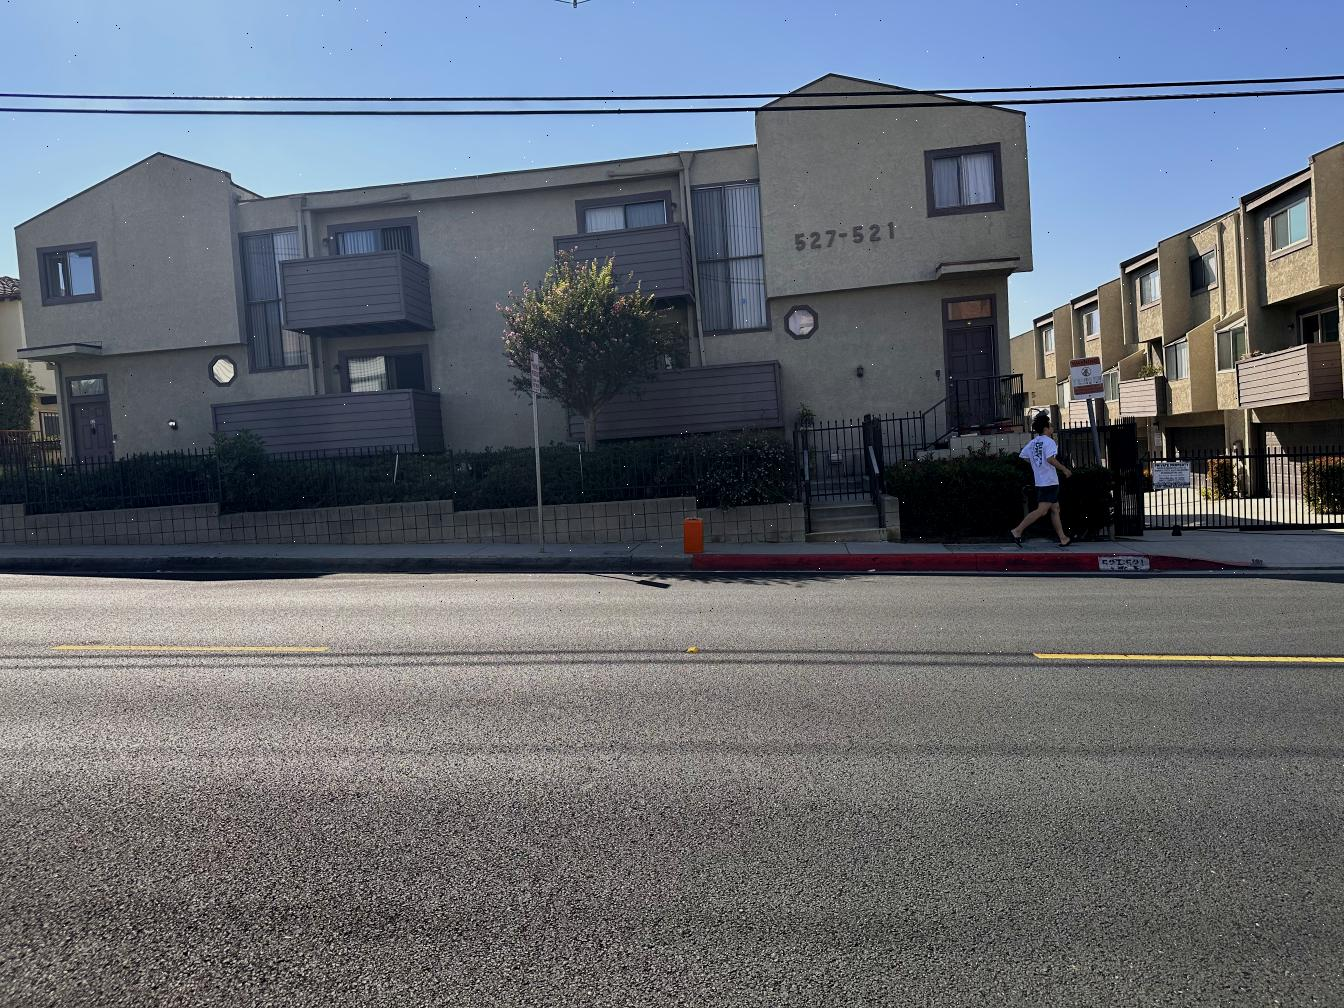curbs-laRr: (5, 552, 700, 576)
orange box: (683, 516, 704, 555)
